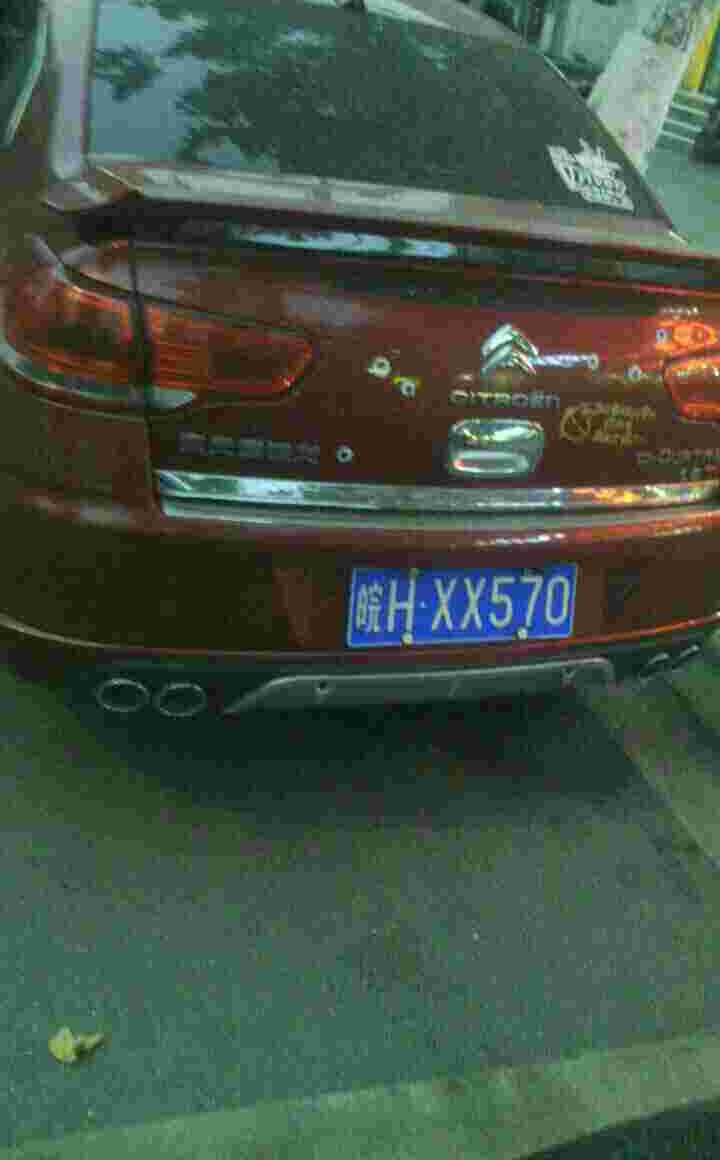license_plate: (344, 566, 585, 632)
